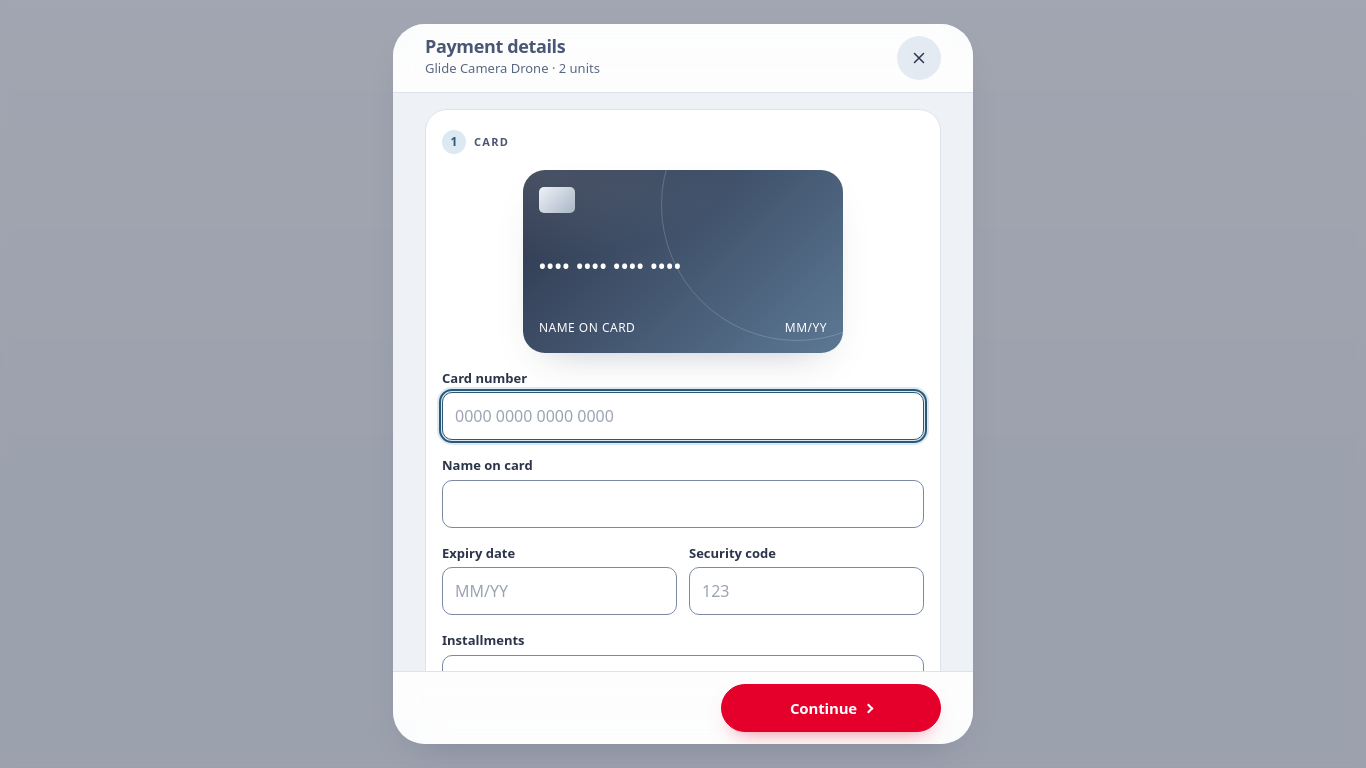
DetailsModal › the card › recognises a MasterCard card
Type "5555" into the field labelled "Card number" at (683, 416), box x1=442 y1=392 x2=924 y2=440
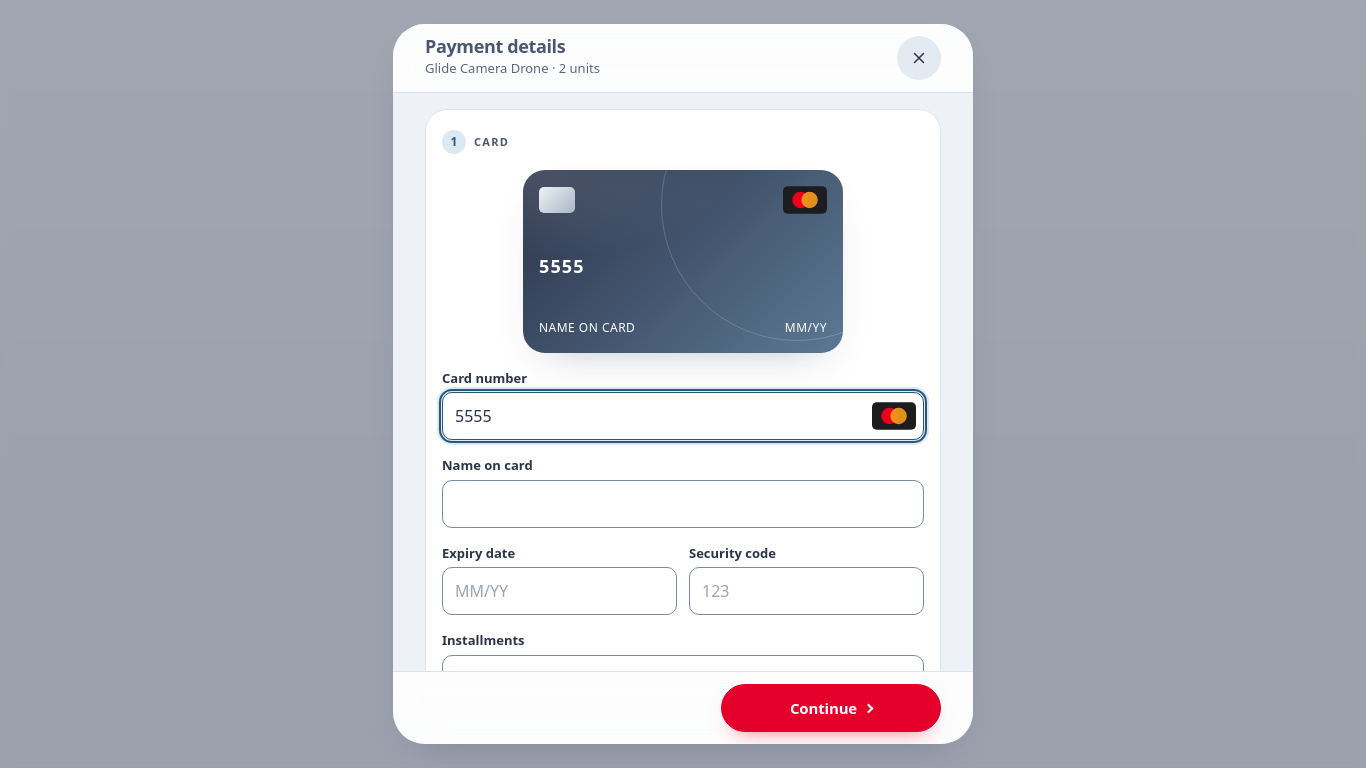
Expected: the 2nd picture named "MasterCard" is shown, x1=872 y1=402 x2=916 y2=430
